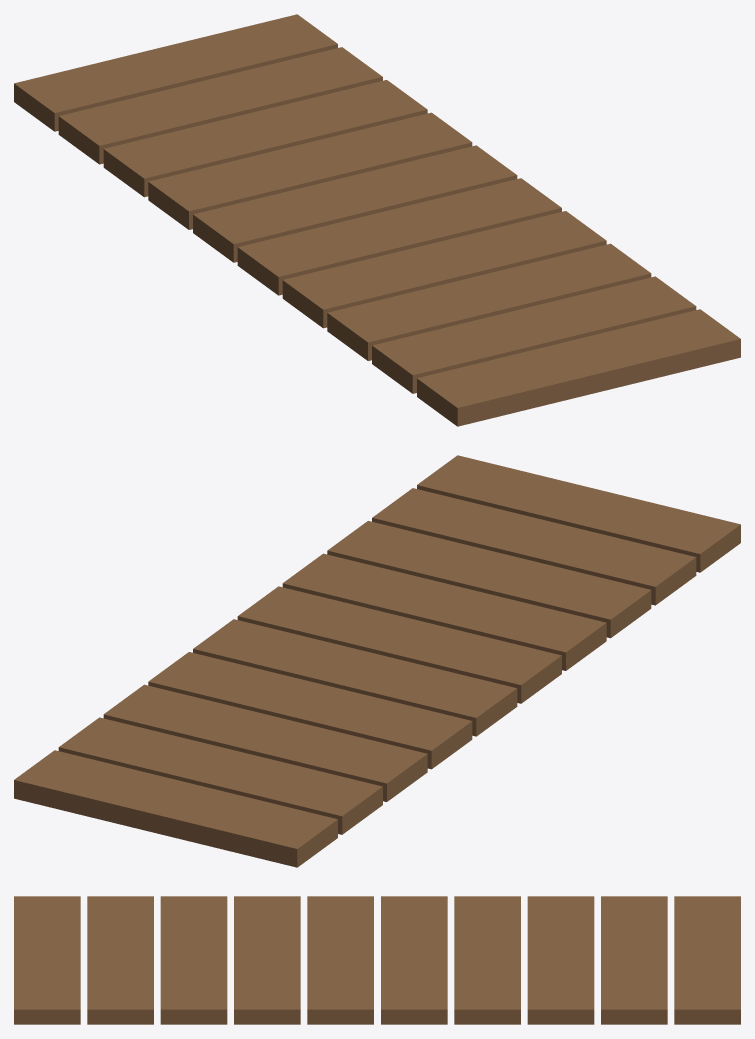
The model's file is Darwbridge.obj.
3 renders of one model, top to bottom at view 1: azimuth 30°, elevation 25°; view 2: azimuth 150°, elevation 25°; view 3: azimuth 270°, elevation 25°, orthographic. The views are drawn at different scales.
Visible parts, largest first — view 1: 立方体; view 2: 立方体; view 3: 立方体.
Part boxes in pixels (box(x1,y1,x2,y2)): 立方体: box(14, 14, 740, 426); 立方体: box(14, 455, 740, 867); 立方体: box(14, 896, 740, 1024).
Size of the model in its own units: 1.85 by 0.1161 by 5.01.
Materials: 1 (1 with a texture image).
